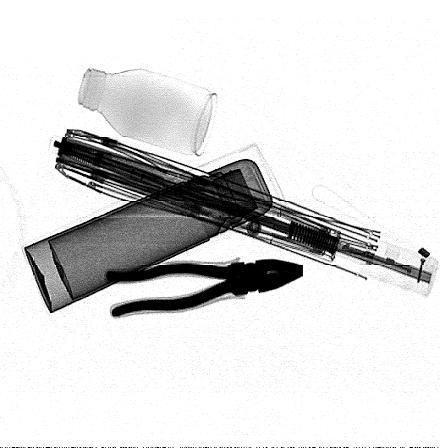Pliers: (104, 257, 305, 317)
